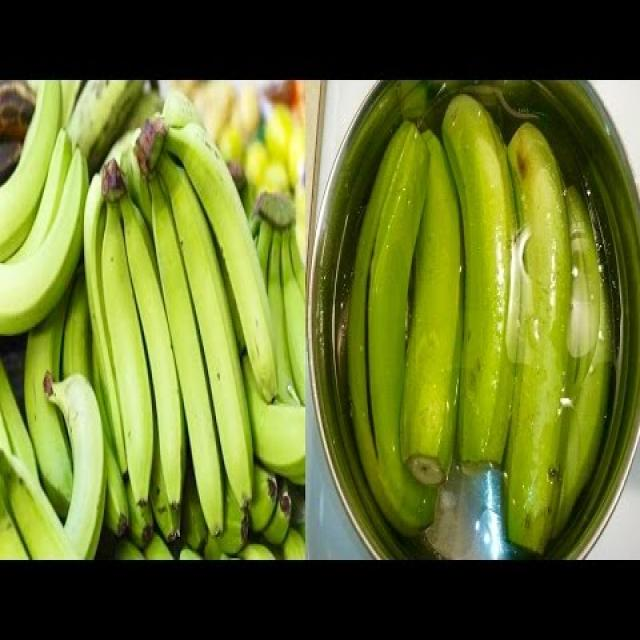Banana: (137, 110, 275, 526), (75, 150, 204, 518), (500, 109, 584, 558), (345, 125, 436, 535), (437, 89, 519, 482), (3, 89, 89, 343), (247, 158, 314, 457), (32, 364, 120, 556)
